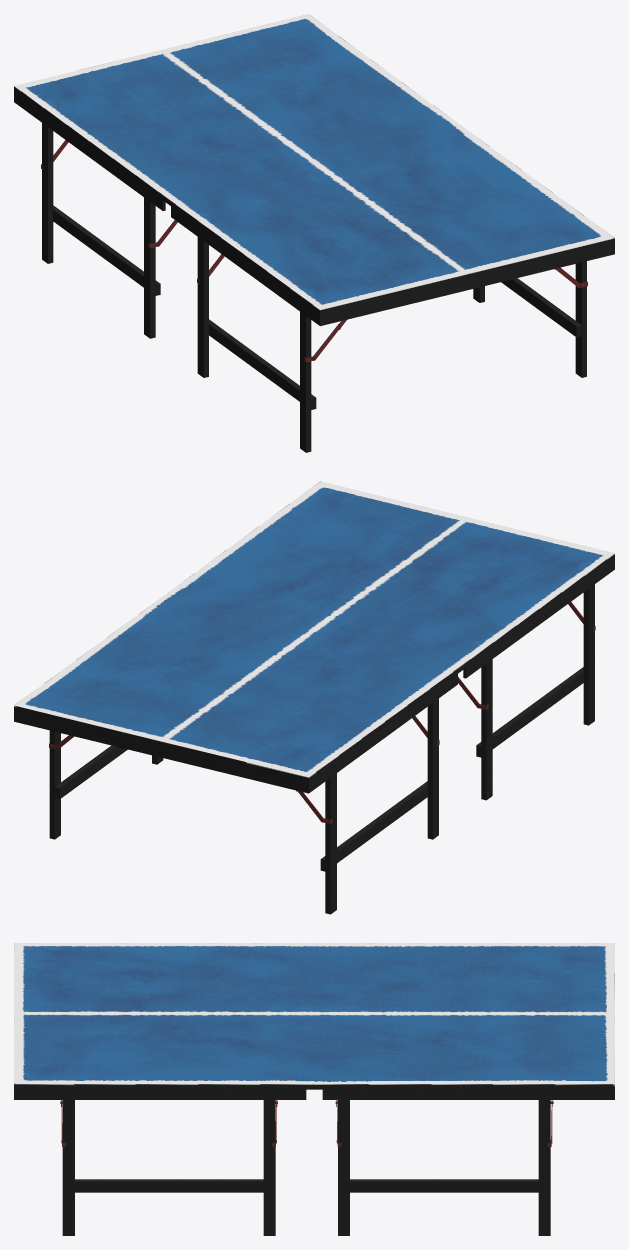
Rendered from mesa.dae.
The picture shows the model from 3 angles, top to bottom: view 1: azimuth 30°, elevation 25°; view 2: azimuth 150°, elevation 25°; view 3: azimuth 270°, elevation 25°; orthographic projection.
Parts seen in each view (by area): view 1: Mesa_Low1; view 2: Mesa_Low1; view 3: Mesa_Low1.
Boxes of the visible parts, left/top/right/bottom form: Mesa_Low1: left=14, top=14, right=614, bottom=452; Mesa_Low1: left=14, top=481, right=614, bottom=914; Mesa_Low1: left=14, top=943, right=614, bottom=1235.
Bounding box in the file's own units: 6.97 × 3.53 × 12.54.
